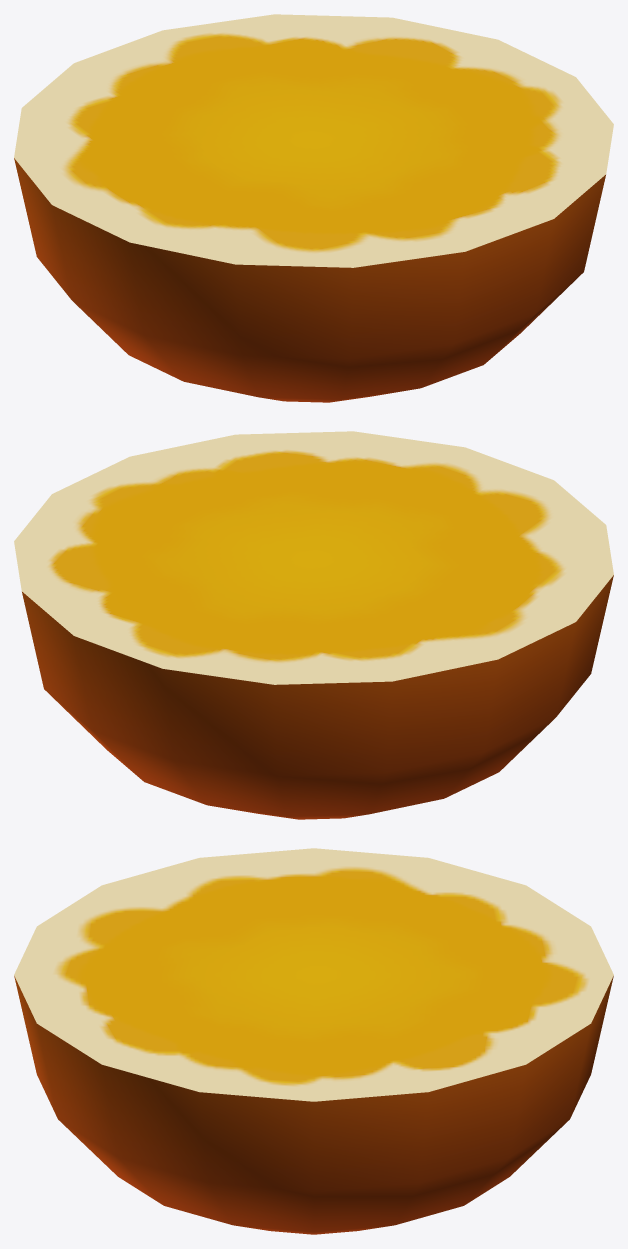
Rendered from Orange_Slice_01.glb.
3 renders of one model, top to bottom at view 1: azimuth 30°, elevation 25°; view 2: azimuth 150°, elevation 25°; view 3: azimuth 270°, elevation 25°, orthographic.
Visible parts, largest first — view 1: Orange_Slice_01; view 2: Orange_Slice_01; view 3: Orange_Slice_01.
Part boxes in pixels (x1,y1,x2,y2): Orange_Slice_01: (14, 14, 613, 402); Orange_Slice_01: (14, 431, 613, 819); Orange_Slice_01: (14, 848, 613, 1234).
Bounding box in the file's own units: 0.272 × 0.1148 × 0.272.
Materials: 1 (1 with a texture image).
